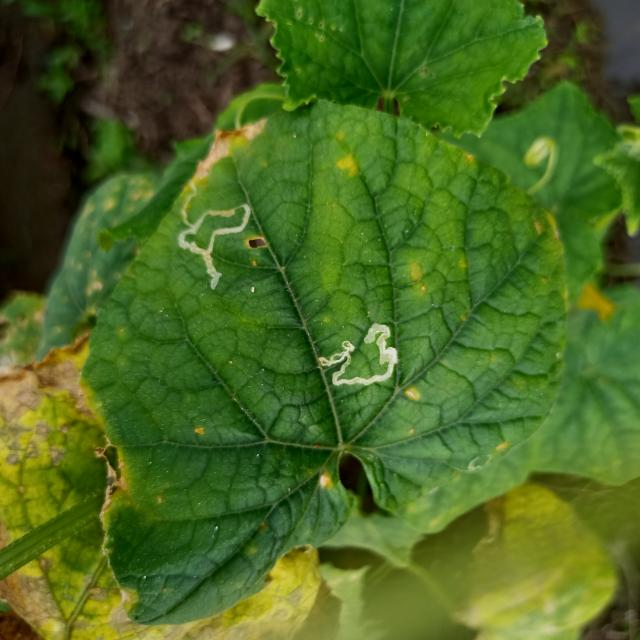disease_cucumber: (525, 207, 566, 246), (332, 134, 360, 178), (408, 259, 428, 294), (404, 384, 420, 406), (319, 469, 333, 489), (492, 440, 507, 454), (192, 423, 206, 437)
